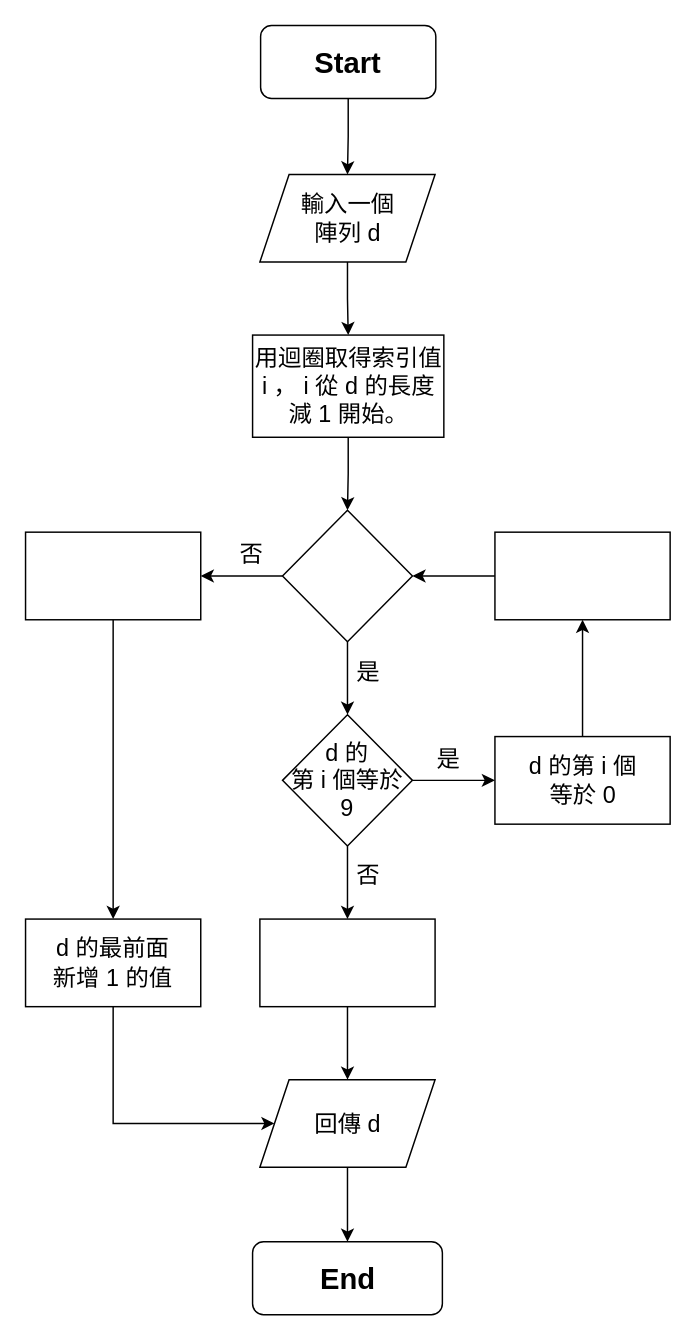
The diagram is 696 pixels wide and 1340 high, and some of its shapes have lost their labels. The centre of each missing label's shape, as x and y in pixels:
d 的 第 i 個 加 1: the point at 346,962
i 大於 等於 0: the point at 346,575
i 遞減 1: the point at 581,575
停止迴圈: the point at 112,575
